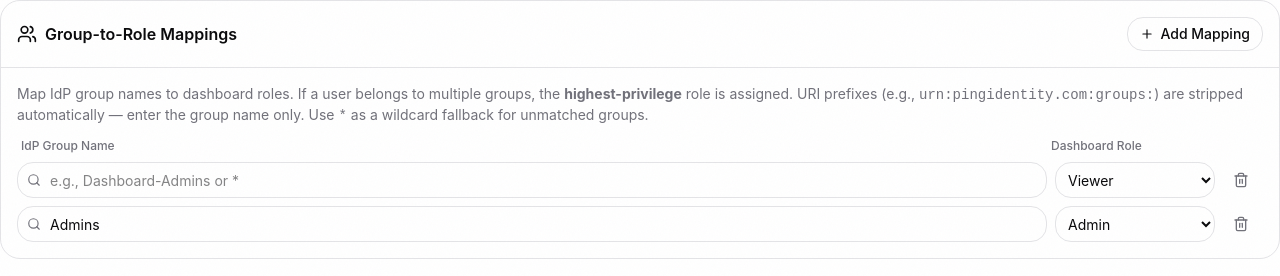
GroupRoleMappingEditor › GroupNameAutocomplete › does not show the row's own value as a suggestion when focused
Focus the dropdown with test id "mapping-group-0": (532, 180) top-left (17, 162), bottom-right (1047, 198)
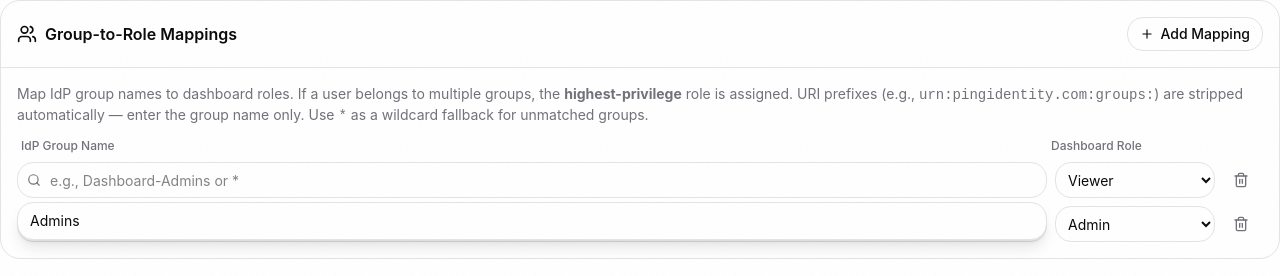
Expected: the option "Admins" is shown, top-left (30, 212), bottom-right (80, 229)
